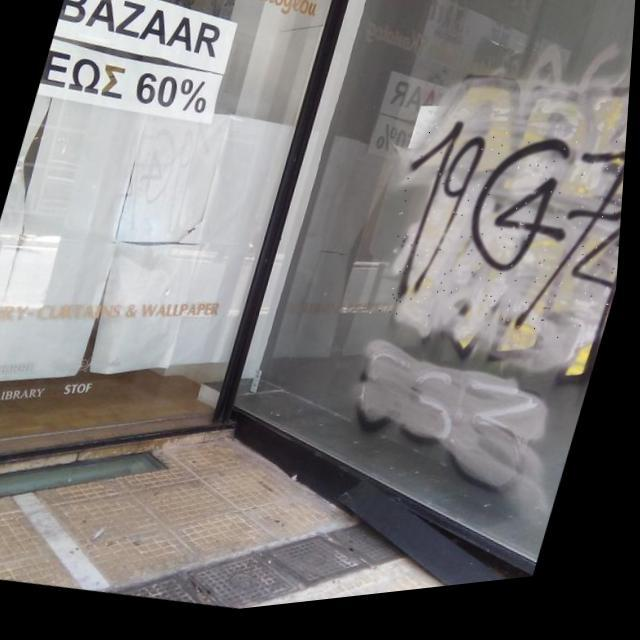-: (368, 106, 632, 378)
